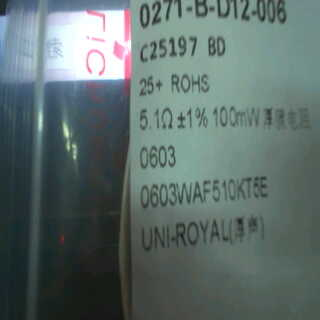5.1R: (135, 104, 175, 137)
